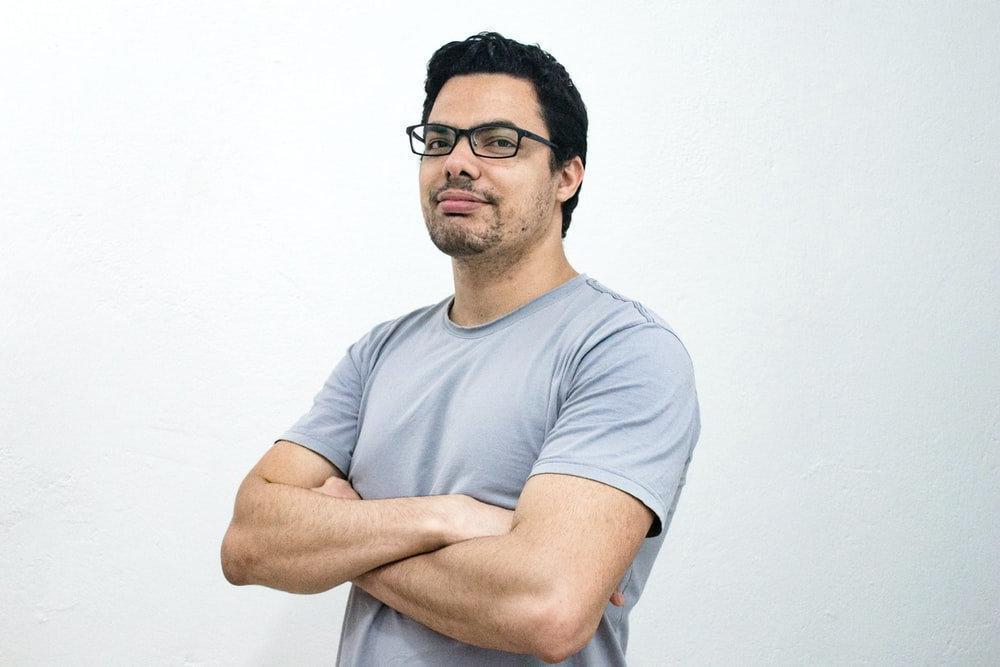Sober: (415, 87, 545, 248)
